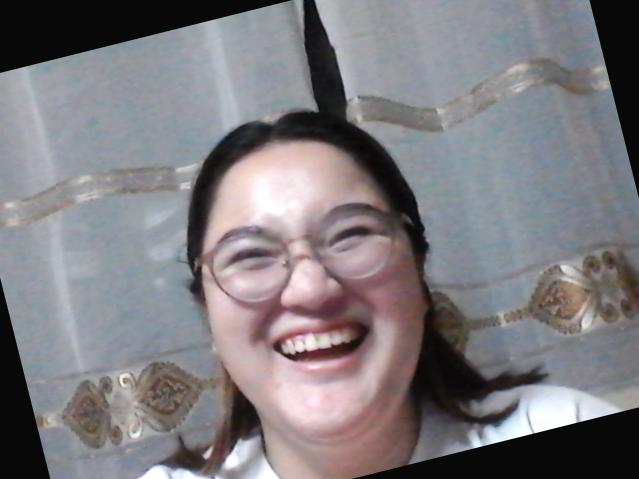senang: (172, 109, 478, 464)
